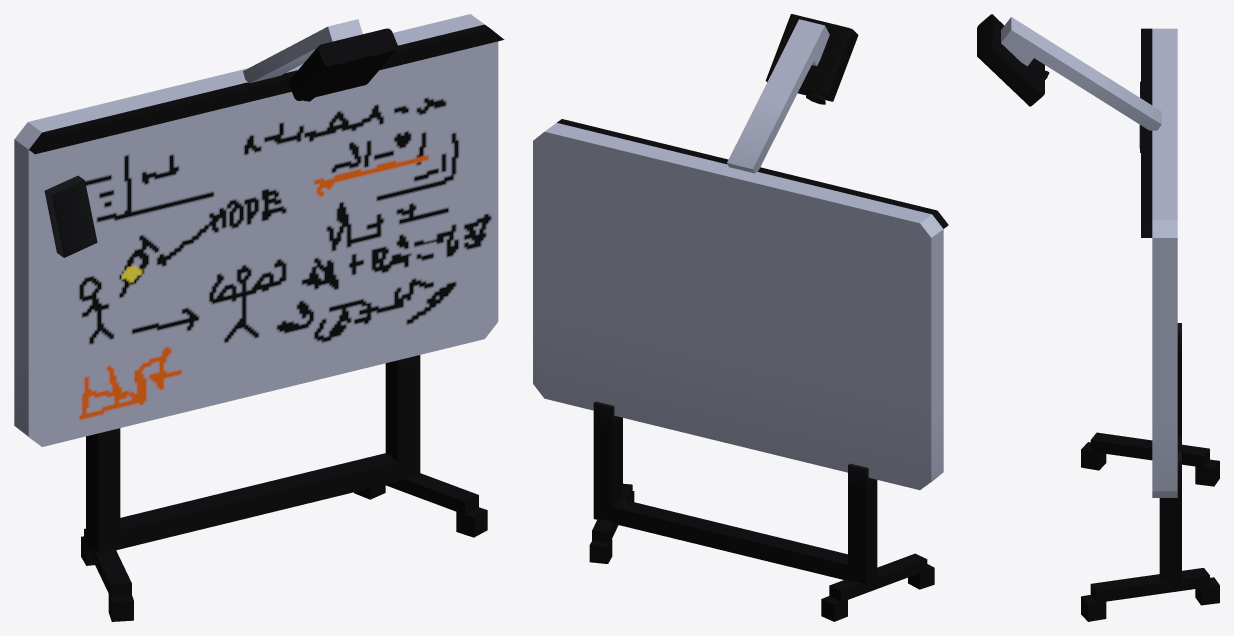
File: board.fbx
The picture shows the model from 3 angles, left to right: view 1: azimuth 30°, elevation 25°; view 2: azimuth 150°, elevation 25°; view 3: azimuth 270°, elevation 25°; orthographic projection. The views are drawn at different scales.
Parts seen in each view (by area): view 1: Куб.160; view 2: Куб.160; view 3: Куб.160.
Part boxes in pixels (left/top/right/bottom): Куб.160: left=14, top=14, right=504, bottom=621; Куб.160: left=533, top=14, right=948, bottom=621; Куб.160: left=977, top=14, right=1219, bottom=621.
Bounding box in the file's own units: 248 × 295 × 126.
